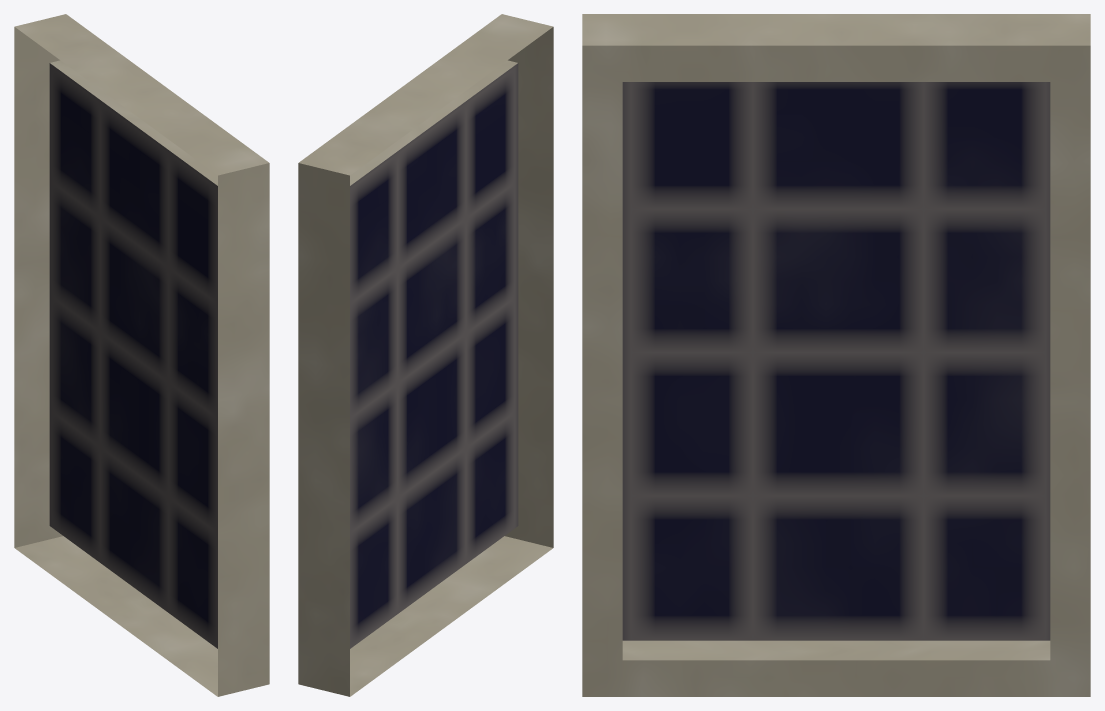
File: Window_1.fbx
3 renders of one model, left to right at view 1: azimuth 30°, elevation 25°; view 2: azimuth 150°, elevation 25°; view 3: azimuth 270°, elevation 25°, orthographic. The views are drawn at different scales.
Visible parts, largest first — view 1: Window; view 2: Window; view 3: Window.
Boxes of the visible parts, x1,y1,x2,y2 form: Window: (14, 14, 269, 696); Window: (298, 14, 553, 696); Window: (582, 14, 1090, 696).
Bounding box in the file's own units: 20.78 × 200 × 141.
